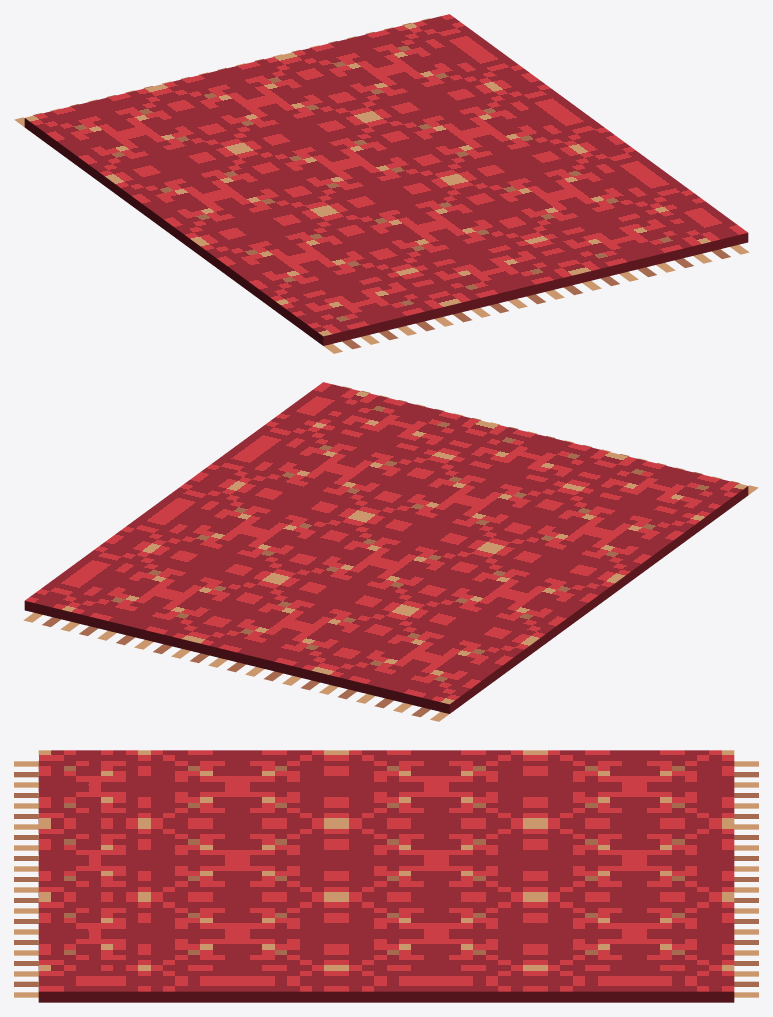
Rendered from Carpet.gltf.
3 renders of one model, top to bottom at view 1: azimuth 30°, elevation 25°; view 2: azimuth 150°, elevation 25°; view 3: azimuth 270°, elevation 25°, orthographic. The views are drawn at different scales.
Visible parts, largest first — view 1: mesh; view 2: mesh; view 3: mesh.
Part boxes in pixels (x1,y1,x2,y2): mesh: [14, 14, 749, 353]; mesh: [23, 382, 758, 721]; mesh: [14, 750, 758, 1002].
Bounding box in the file's own units: 2.88 × 0.0625 × 3.75.
1 material, 1 textured.
